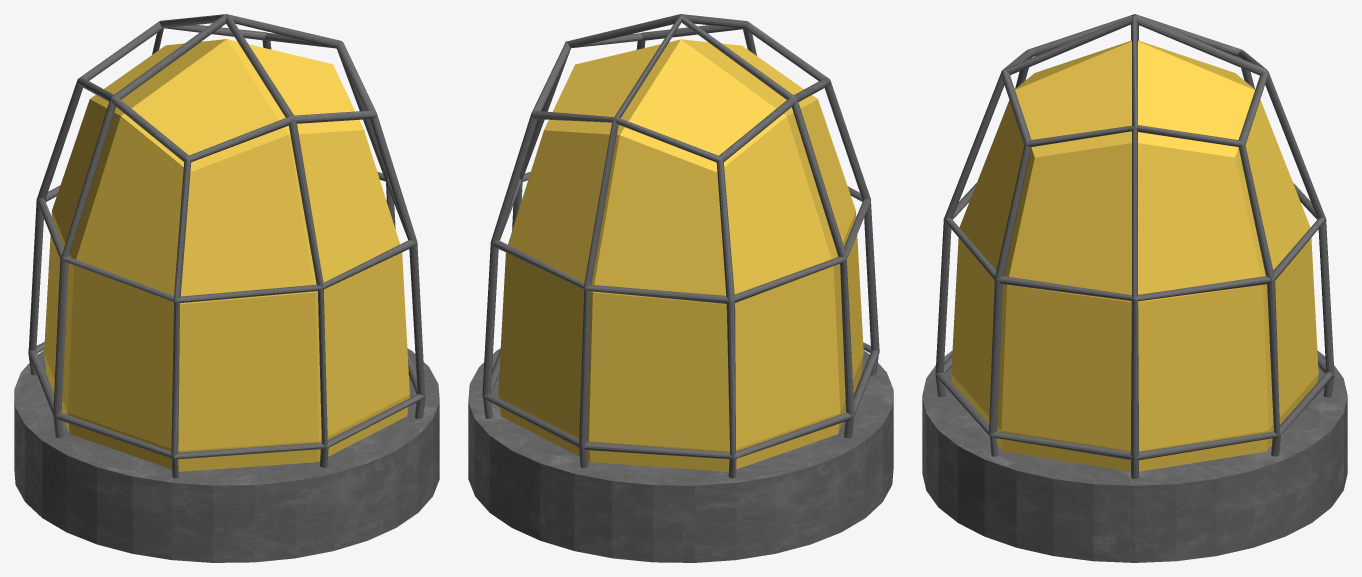
The model's file is UssrLamp.fbx.
The picture shows the model from 3 angles, left to right: view 1: azimuth 30°, elevation 25°; view 2: azimuth 150°, elevation 25°; view 3: azimuth 270°, elevation 25°; orthographic projection.
Parts seen in each view (by area): view 1: Куб, Цилиндр, Куб.001; view 2: Куб, Цилиндр, Куб.001; view 3: Куб, Цилиндр, Куб.001.
Part boxes in pixels (box(x1,y1,x2,y2)): Куб: box(44, 39, 409, 471); Цилиндр: box(14, 348, 439, 562); Куб.001: box(28, 14, 425, 478); Куб: box(498, 39, 863, 471); Цилиндр: box(468, 348, 893, 562); Куб.001: box(482, 14, 879, 478); Куб: box(951, 40, 1318, 471); Цилиндр: box(922, 350, 1347, 562); Куб.001: box(935, 14, 1334, 478).
Bounding box in the file's own units: 200 × 237 × 200.
